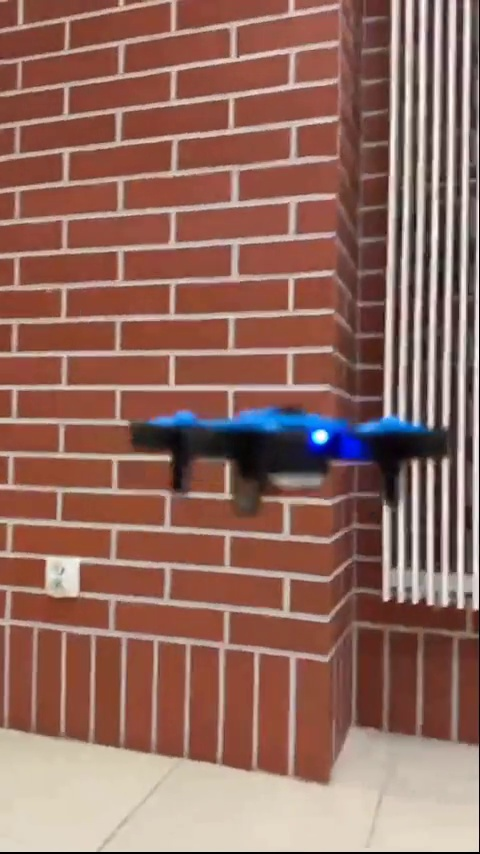drone: (138, 403, 448, 508)
